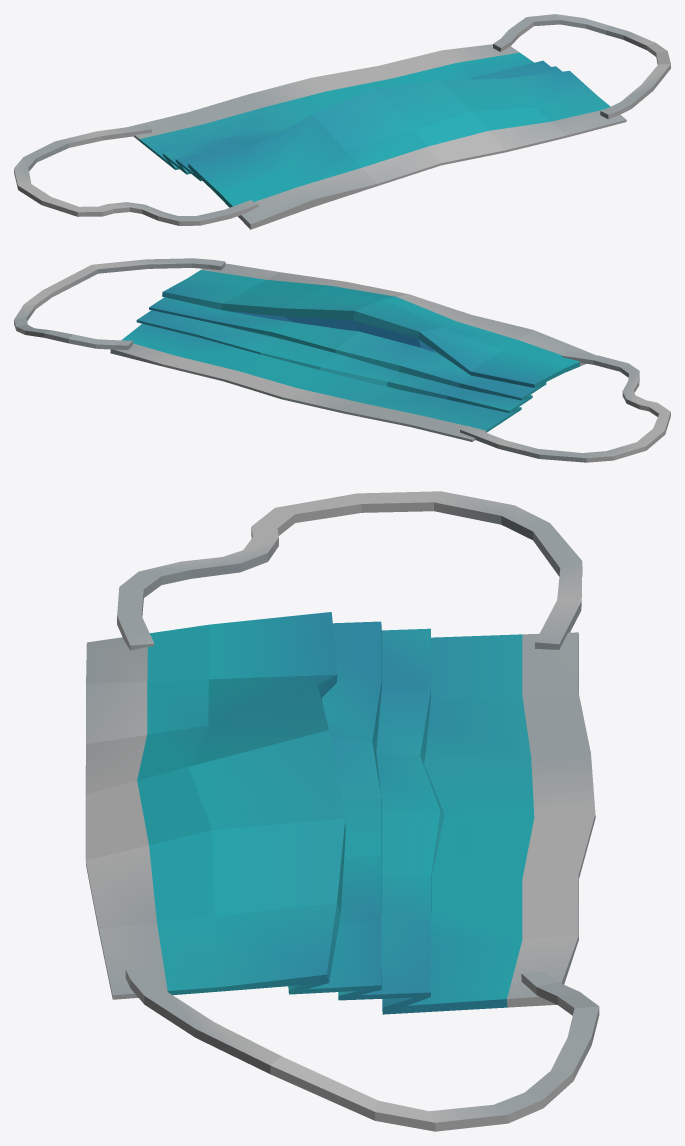
The model's file is MS_Face_Mask.fbx.
3 renders of one model, top to bottom at view 1: azimuth 30°, elevation 25°; view 2: azimuth 150°, elevation 25°; view 3: azimuth 270°, elevation 25°, orthographic. The views are drawn at different scales.
Visible parts, largest first — view 1: MS_Face_Mask; view 2: MS_Face_Mask; view 3: MS_Face_Mask.
Boxes of the visible parts, x1,y1,x2,y2 form: MS_Face_Mask: [14, 14, 670, 229]; MS_Face_Mask: [14, 258, 670, 462]; MS_Face_Mask: [85, 491, 599, 1131].
Size of the model in its own units: 29.29 by 2.36 by 10.44.
